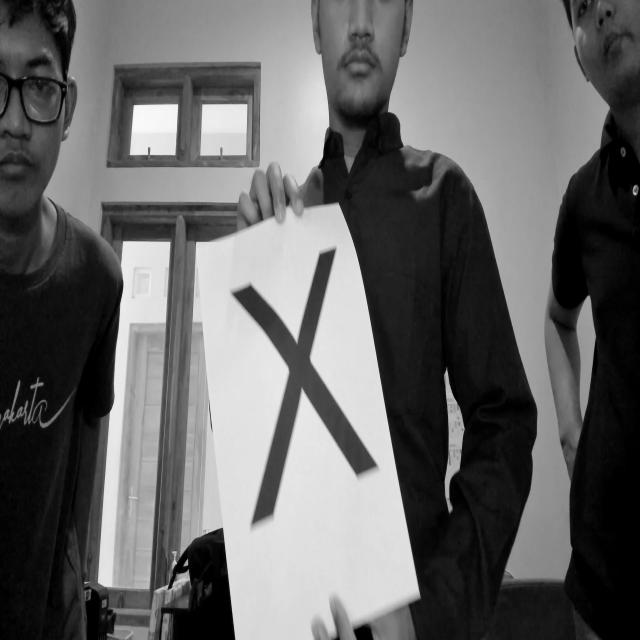x: (219, 235, 396, 547)
